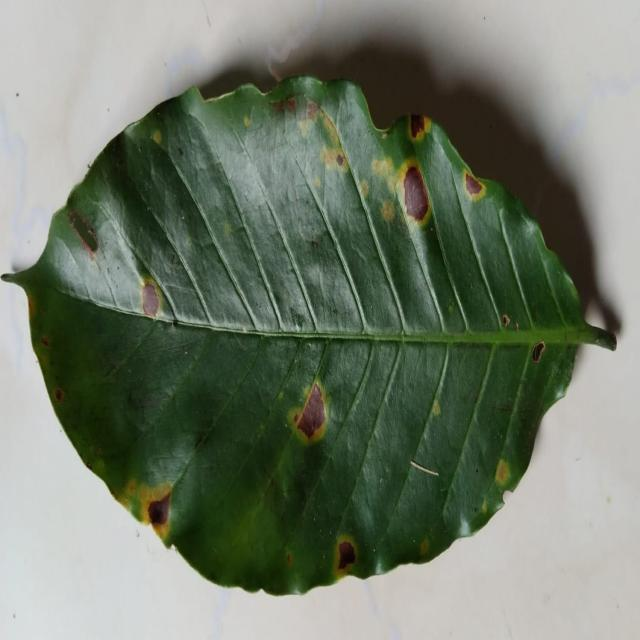Enfermedad-Mancha-de-hierro: (3, 76, 616, 600)
